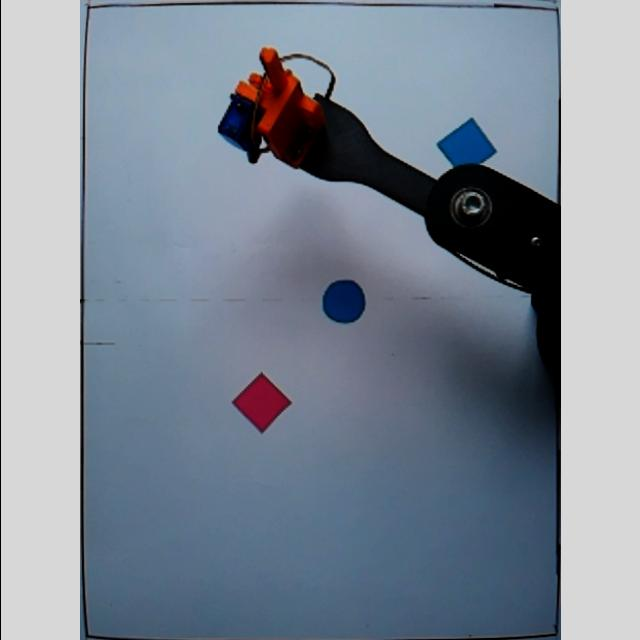blueCircle: (321, 278, 372, 324)
blueSquare: (432, 118, 500, 176)
pinkSquare: (230, 372, 298, 434)
